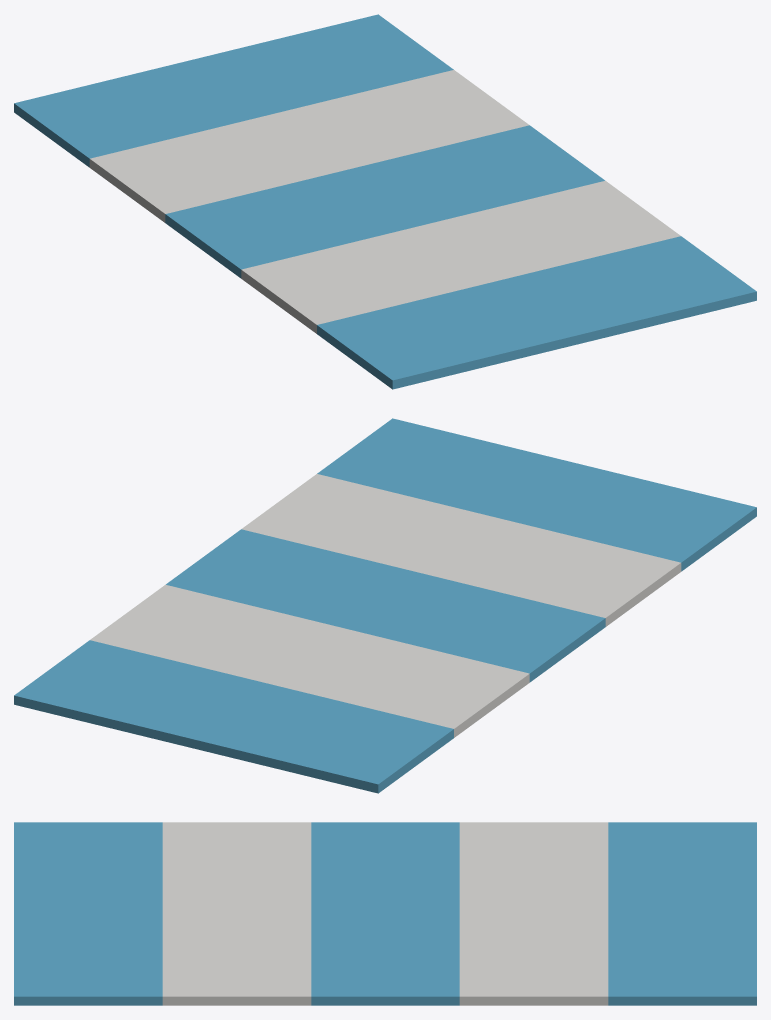
The model's file is towel.fbx.
3 views of the same model, one above another, from view 1: azimuth 30°, elevation 25°; view 2: azimuth 150°, elevation 25°; view 3: azimuth 270°, elevation 25° (orthographic).
Visible parts, largest first — view 1: towel; view 2: towel; view 3: towel.
Part boxes in pixels (left/top/right/bottom): towel: left=14, top=14, right=756, bottom=389; towel: left=14, top=418, right=756, bottom=793; towel: left=14, top=822, right=756, bottom=1005.
Size of the model in its own units: 0.5 by 0.012 by 0.9.
